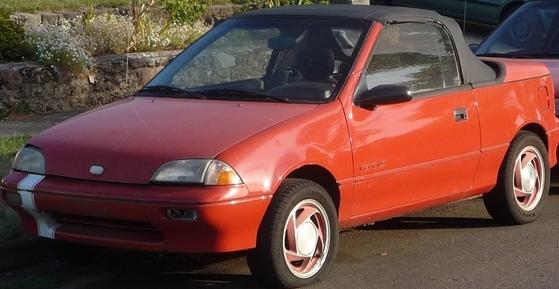front_view: (6, 137, 258, 267)
headlight: (143, 144, 248, 191)
side_glass: (344, 17, 468, 100)
